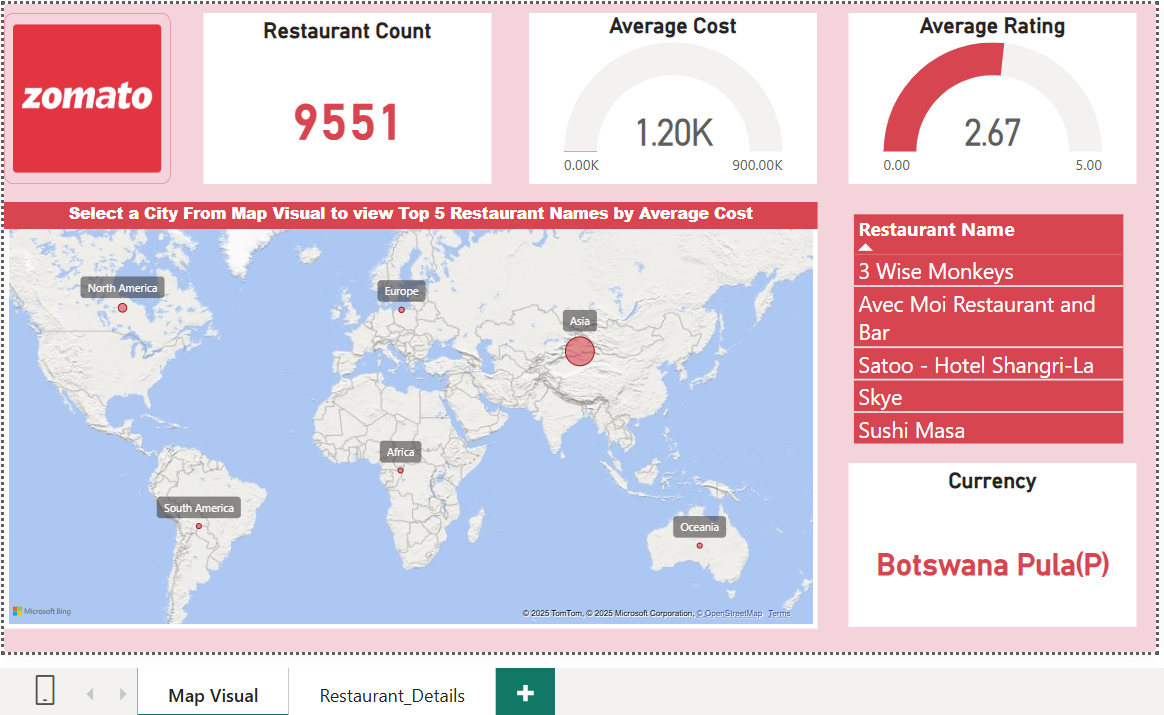

This screenshot's page, from the dashboard's own definition file:
{"tool":"powerbi","page":{"name":"Map Visual","canvas":[1280,720],"ordinal":0},"visuals":[{"type":"map","title":"Select a City From Map Visual to view Top 5 Restaurant Names by Average Cost","fields":{"Category":["Zomato Continents.Continent Hierarchy.Continent","Zomato Continents.Continent Hierarchy.Country","Zomato Continents.Continent Hierarchy.City"],"Size":["KPIs.Restaurant Count"]},"box":[0,220,904,474],"z":0},{"type":"tableEx","title":"Top 5 Restaurants By Average Cost","fields":{"Values":["Zomato Continents.Restaurant Name"]},"box":[938,228,320,282],"z":2000},{"type":"gauge","fields":{"Y":["KPIs.Average Rating"]},"box":[938.3,10,320,190],"z":2001},{"type":"gauge","fields":{"Y":["KPIs.Average Cost"]},"box":[583.3,10,320,190],"z":2002},{"type":"image","box":[0,10,185,190],"z":2003},{"type":"card","title":"Restaurant Count","fields":{"Values":["KPIs.Restaurant Count"]},"box":[221.7,10,320,190],"z":2004},{"type":"card","title":"Currency","fields":{"Values":["Min(KPIs.Currency)"]},"box":[938,510,320,182],"z":2006}]}

Visuals, with their boxes on the page's 1280x720 design canvas (x1, y1, x2, y2). These are canvas units, not pixel positions in the 1164x715 screenshot, which may show the page scaled, cropped or inside an application window:
"Select a City From Map Visual to view Top 5 Restaurant Names by Average Cost" map: <region>0, 220, 904, 694</region>
"Top 5 Restaurants By Average Cost" tableEx: <region>938, 228, 1258, 510</region>
gauge - KPIs.Average Rating: <region>938, 10, 1258, 200</region>
gauge - KPIs.Average Cost: <region>583, 10, 903, 200</region>
image: <region>0, 10, 185, 200</region>
"Restaurant Count" card: <region>222, 10, 542, 200</region>
"Currency" card: <region>938, 510, 1258, 692</region>
